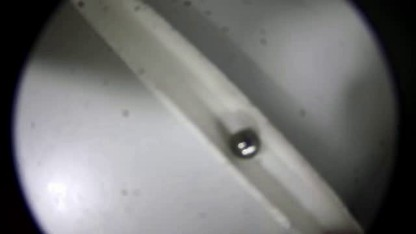gangzhu: (229, 128, 260, 159)
